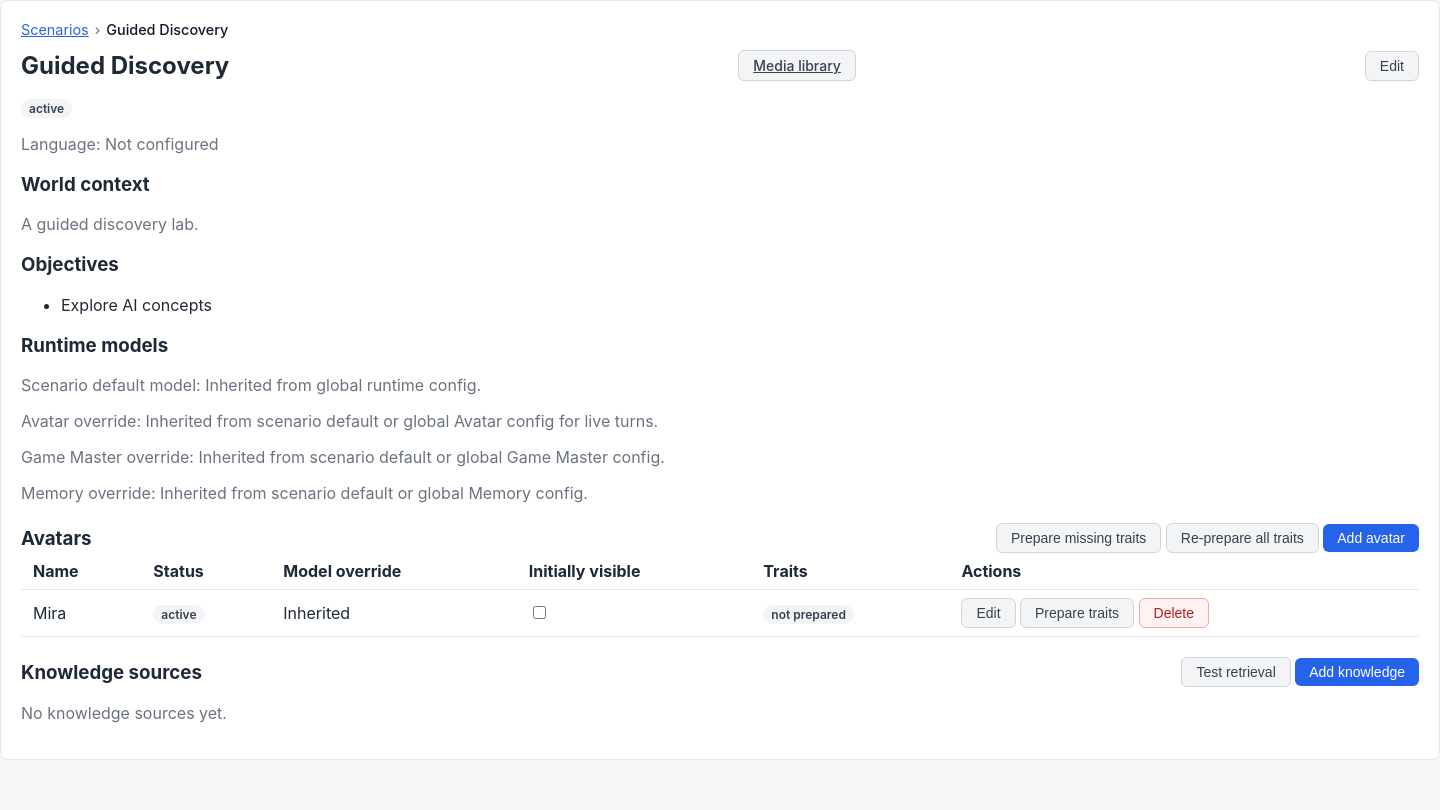
ScenarioDetailPage avatar trait preparation trigger › shows a failure message when trait preparation fails
Expected: the heading "Guided Discovery" is shown, 21,51 -> 229,80
Click the button "Prepare missing traits": (1079, 538) 996,523 -> 1161,553
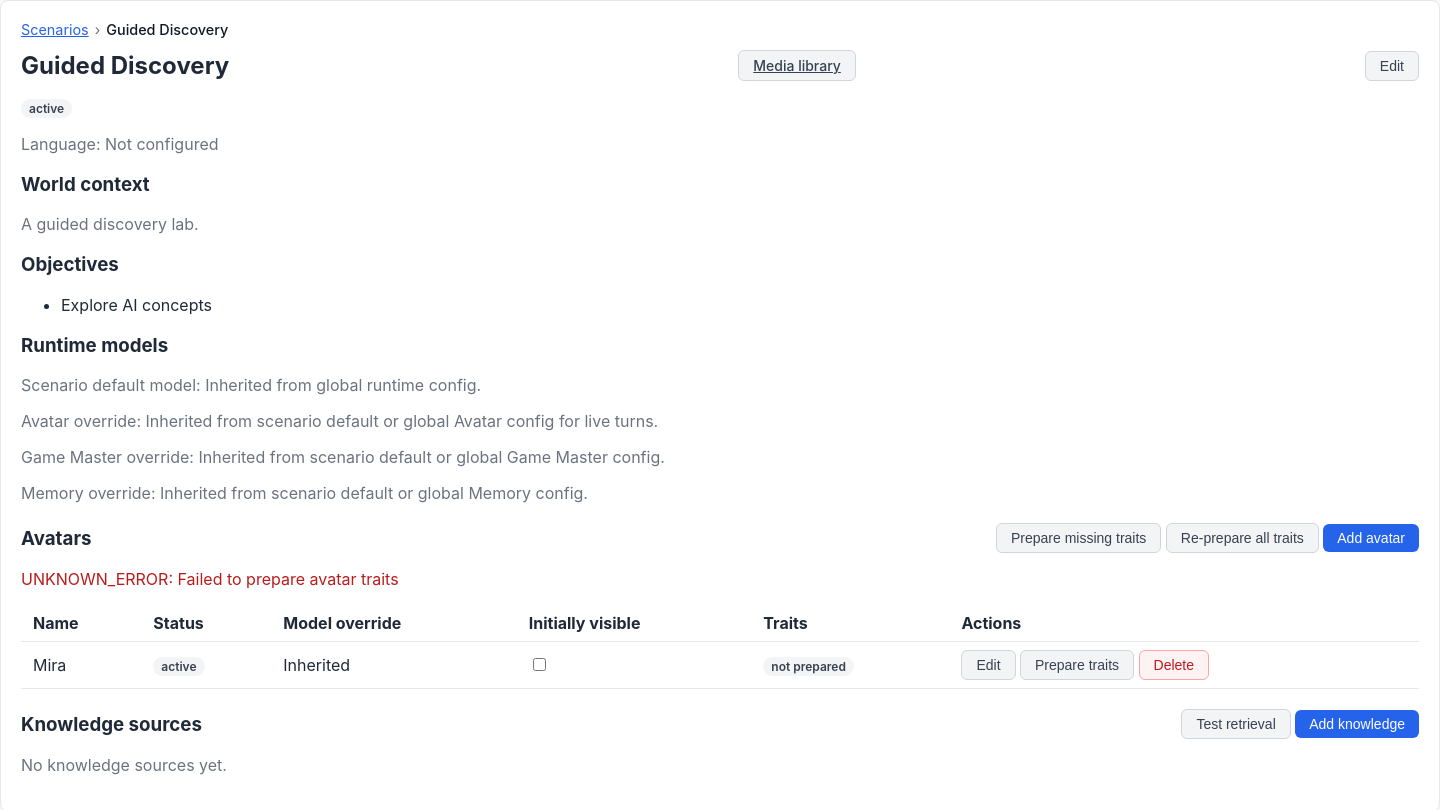
Expected: the text "UNKNOWN_ERROR: Failed to prepare avatar traits" is shown, 21,569 -> 399,589
